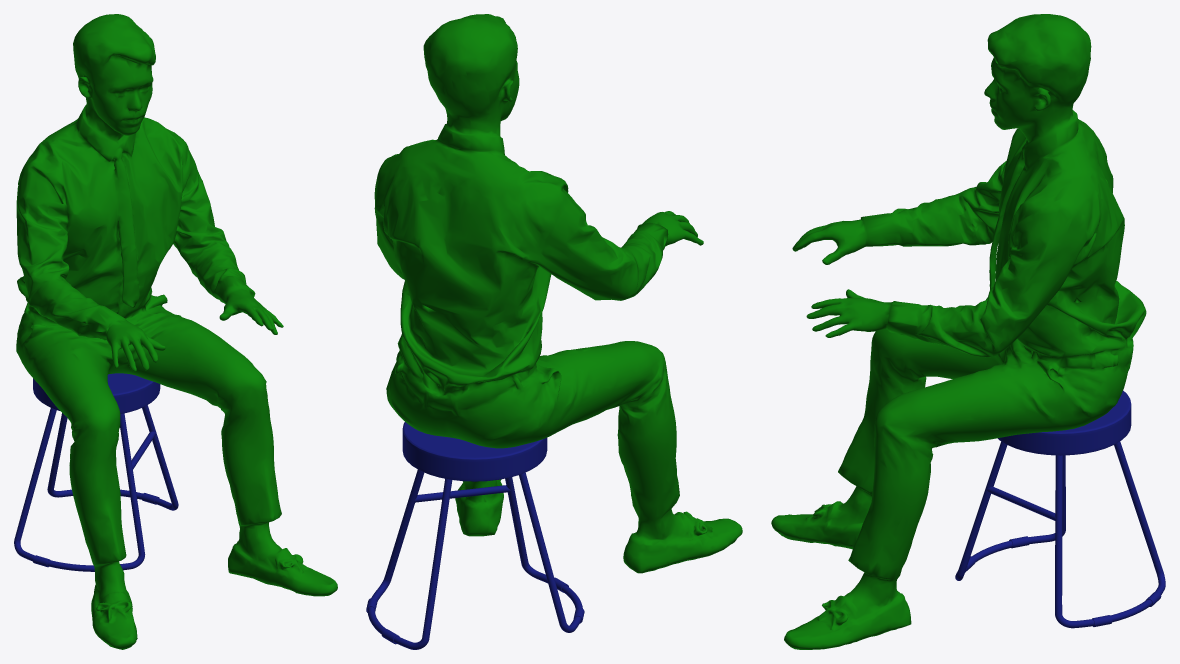
The model's file is MALE-SITTING.fbx.
3 renders of one model, left to right at view 1: azimuth 30°, elevation 25°; view 2: azimuth 150°, elevation 25°; view 3: azimuth 270°, elevation 25°, orthographic. The views are drawn at different scales.
Visible parts, largest first — view 1: SM_Rizzy_1374_UE (×2); view 2: SM_Rizzy_1374_UE (×2); view 3: SM_Rizzy_1374_UE (×2).
Boxes of the visible parts, left/top/right/bottom form: SM_Rizzy_1374_UE (×2): left=14, top=14, right=337, bottom=649; SM_Rizzy_1374_UE (×2): left=366, top=14, right=742, bottom=649; SM_Rizzy_1374_UE (×2): left=771, top=14, right=1165, bottom=649.
Bounding box in the file's own units: 67.48 × 143 × 89.16.
